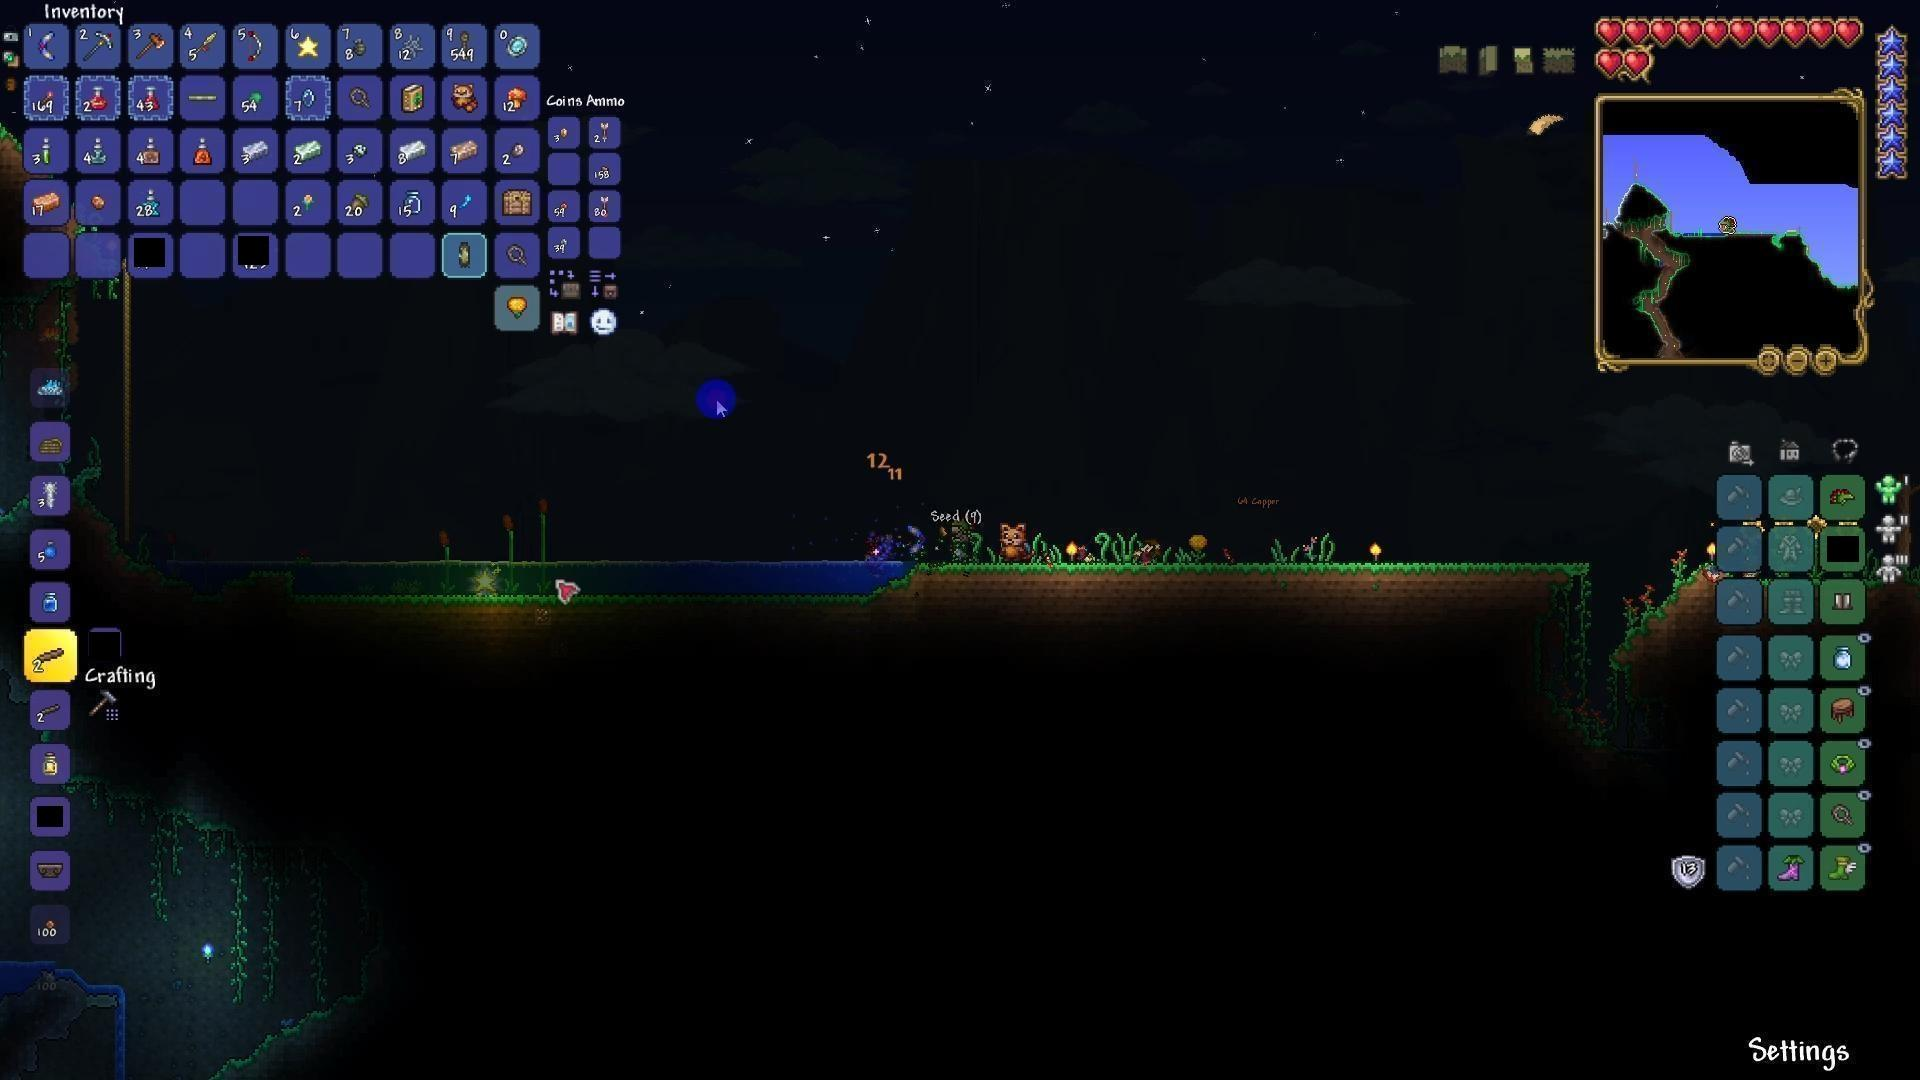legs: (1830, 591, 1855, 615)
